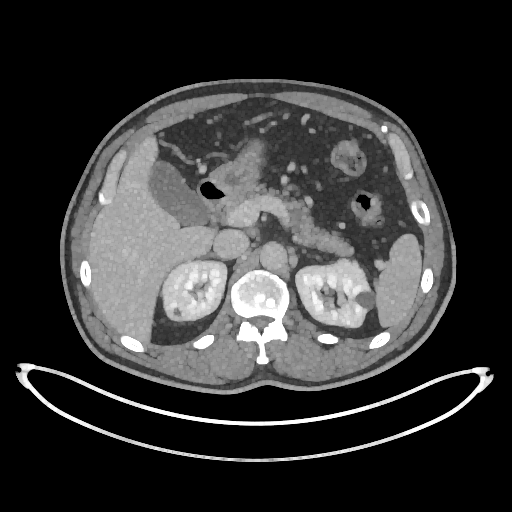Lesion: (352, 290, 376, 311)
